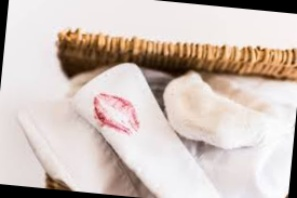lipstick: (90, 91, 141, 135)
